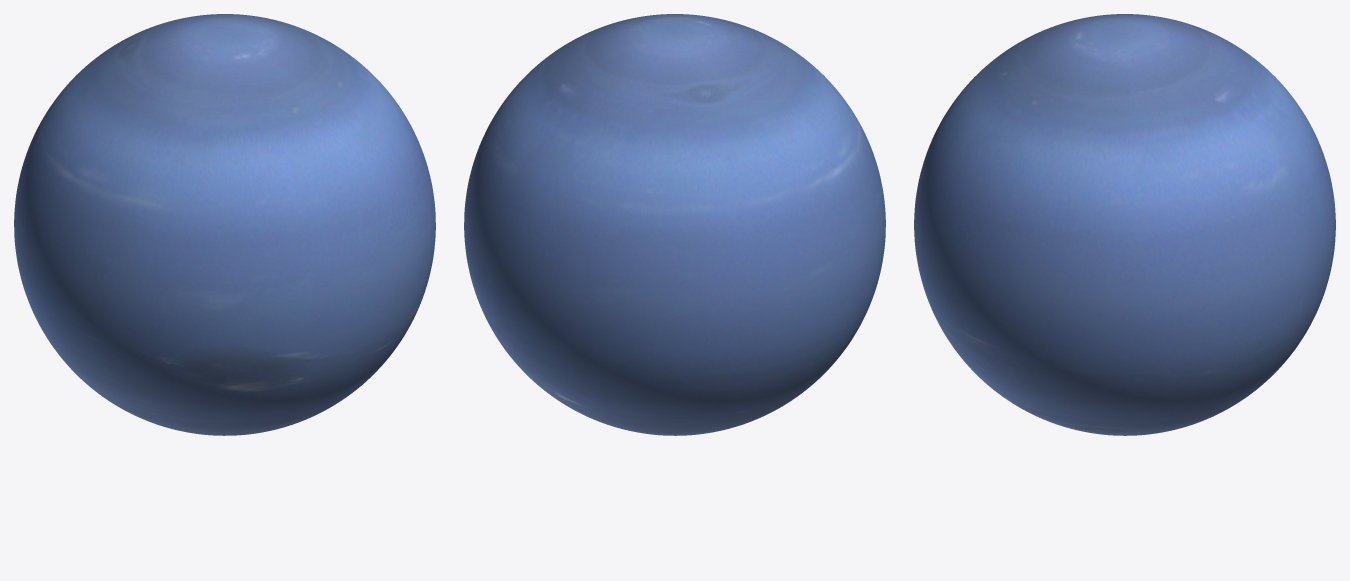
File: Neptune.glb
3 views of the same model, side by side, from view 1: azimuth 30°, elevation 25°; view 2: azimuth 150°, elevation 25°; view 3: azimuth 270°, elevation 25° (orthographic).
Visible parts, largest first — view 1: Object_2.002; view 2: Object_2.002; view 3: Object_2.002.
Part boxes in pixels (x1,y1,x2,y2): Object_2.002: (14, 14, 435, 435); Object_2.002: (464, 14, 885, 435); Object_2.002: (914, 14, 1335, 435).
Bounding box in the file's own units: 1.57 × 2.19 × 1.57.
1 material, 1 textured.
